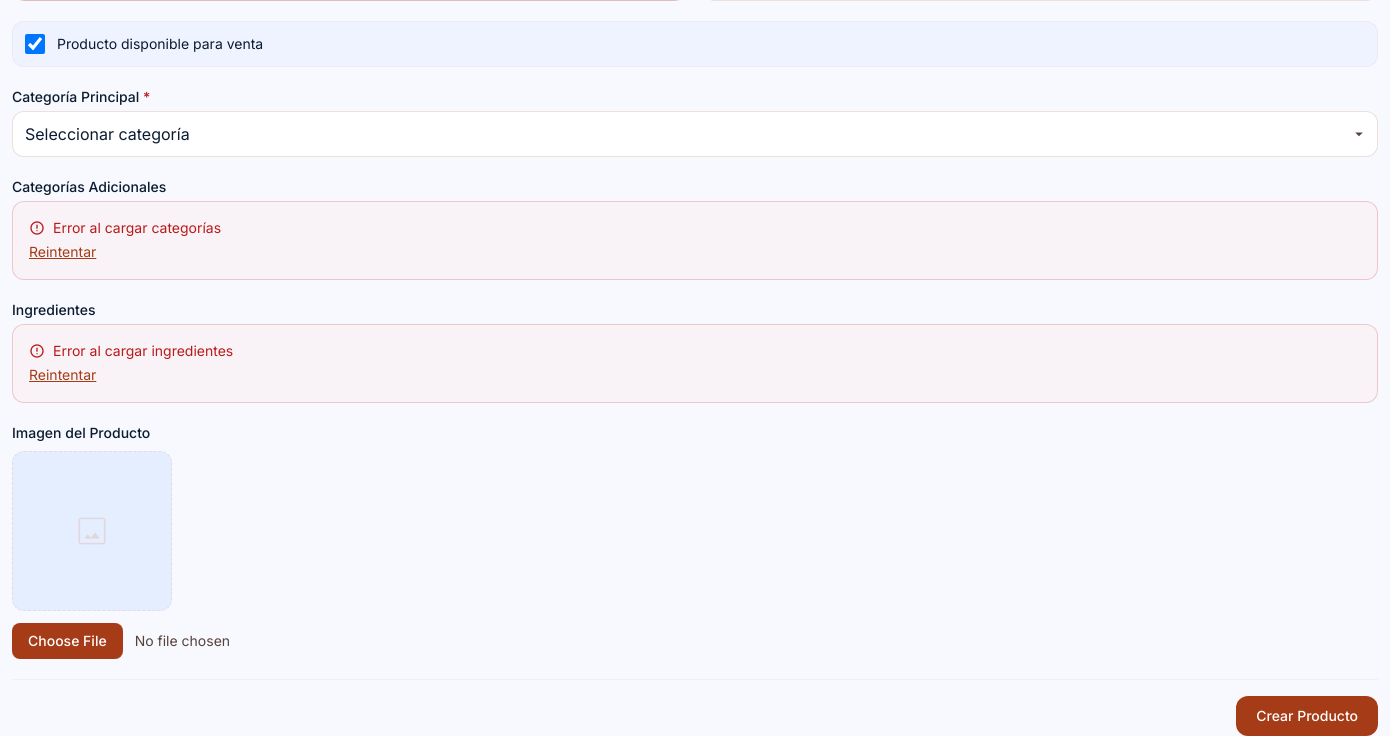
Test: ProductForm › shows validation errors for empty required fields on submit
The image size is (1390, 736).
(page scrolled)
What coordinates should you click on to do the following:
click the button "Crear Producto"
I would click on:
 (1307, 716)
Its box is x1=1236 y1=696 x2=1378 y2=735.
(page scrolled)
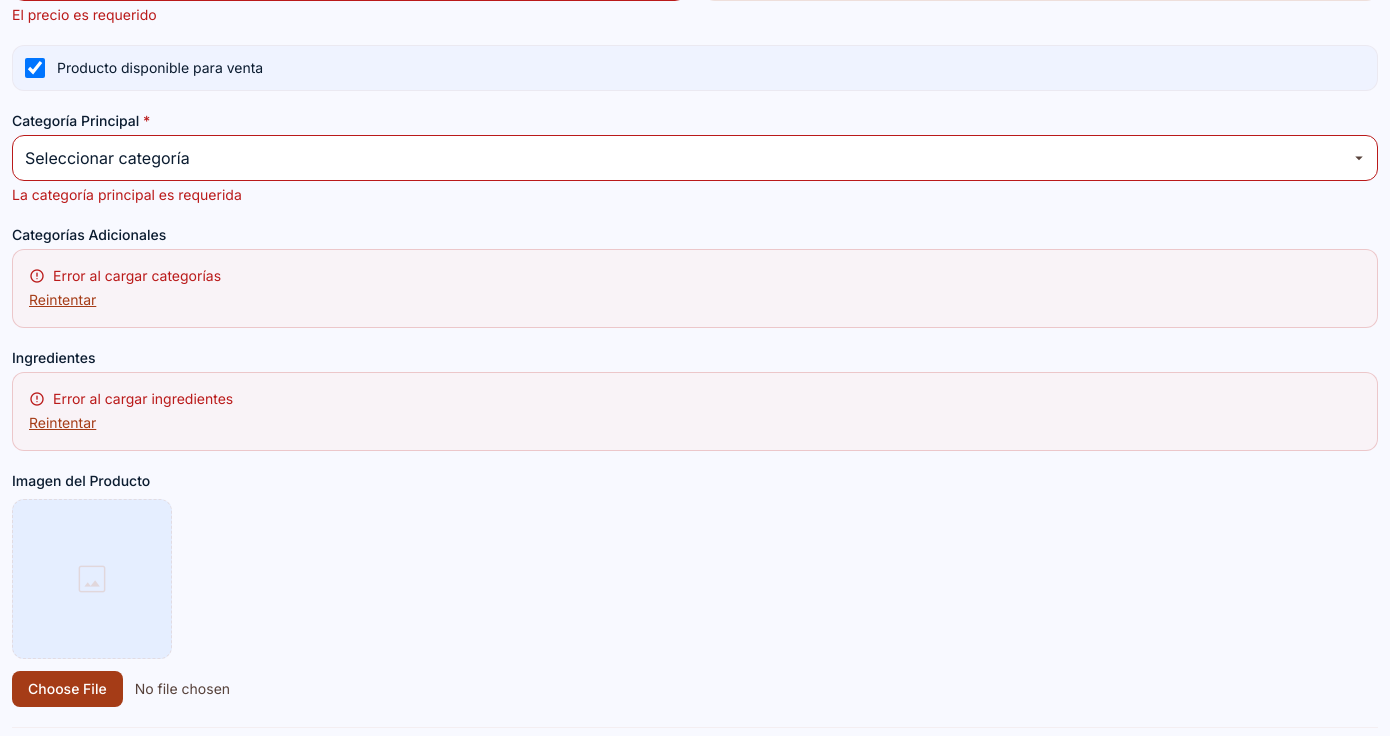
Expected: the text "El precio es requerido" is shown, x1=12 y1=6 x2=157 y2=23
